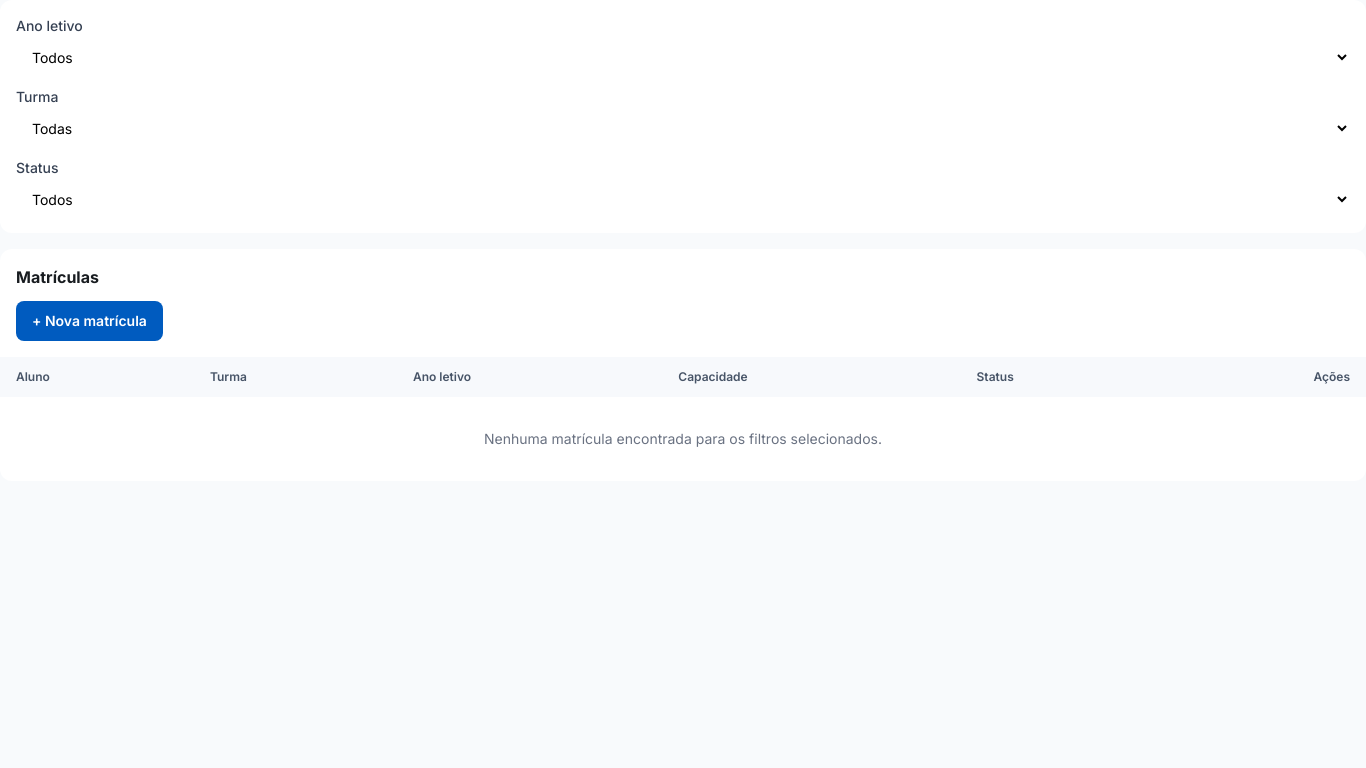
Scenario: EnrollmentsTab - vínculo de responsável após matrícula › cria a matrícula sem inserir dados de responsável
The width and height of the screenshot is (1366, 768).
Click the button "+ Nova matrícula": (89,321) [16, 301, 163, 341]
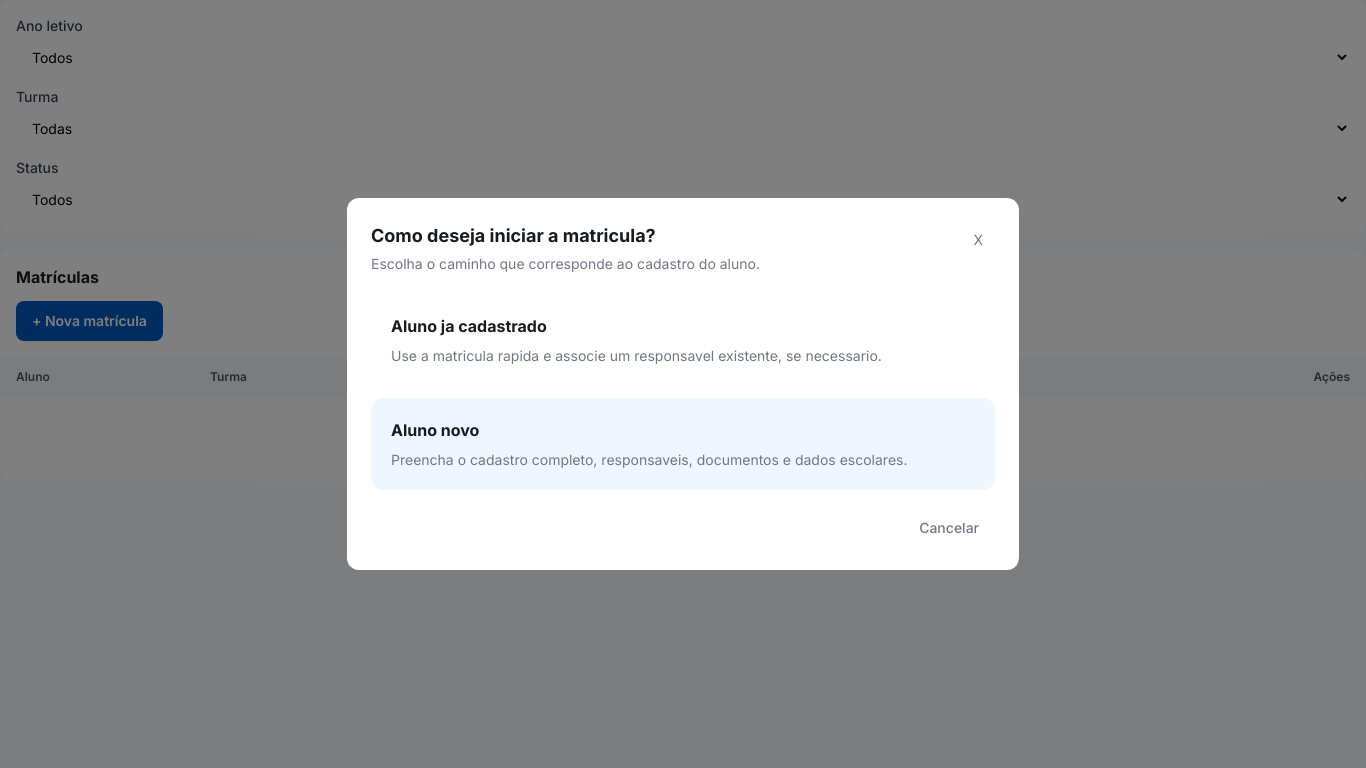
Click the button "Aluno ja cadastrado": (469,326) [371, 294, 995, 386]
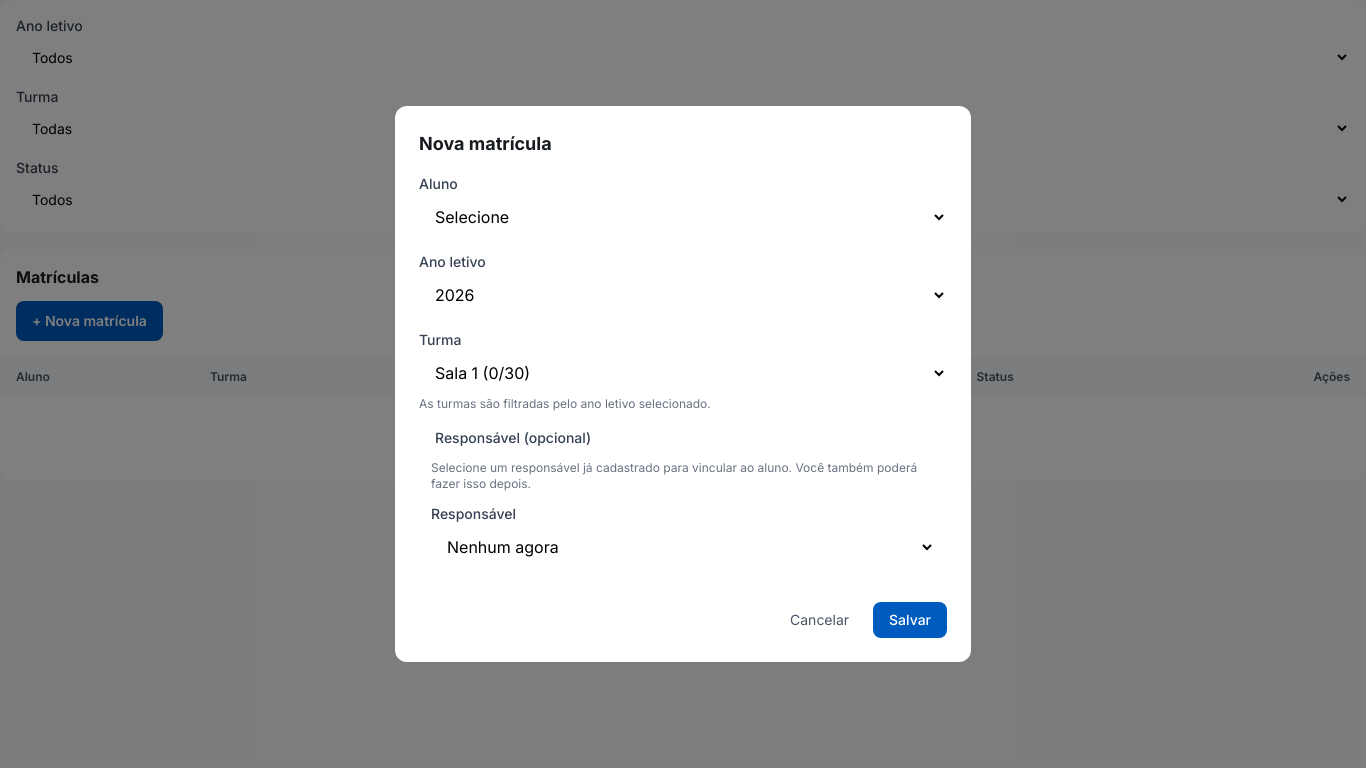
Select "Ieti (20260001)" in the dropdown labelled "Aluno": (683,217) [419, 198, 947, 236]
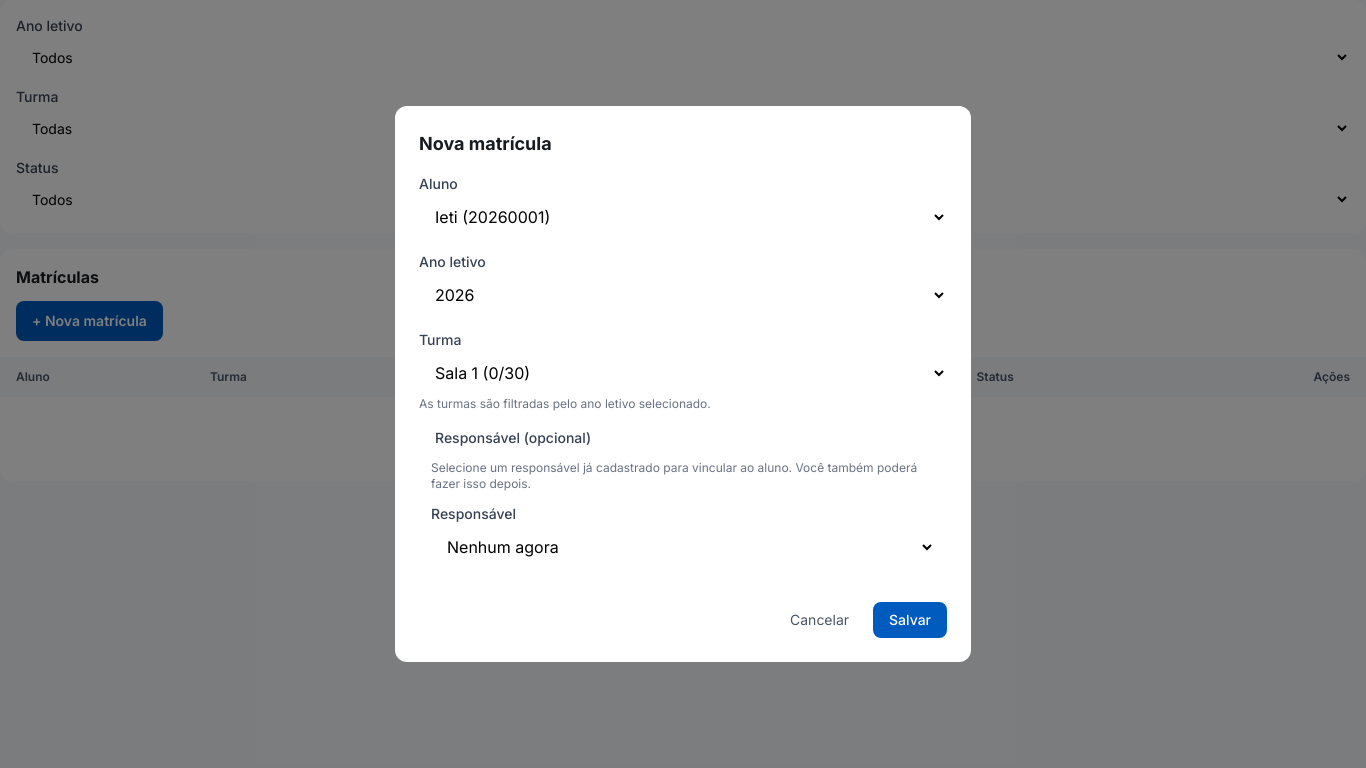
Select "2026" in the dropdown with id "enrollment-year": (683,295) [419, 276, 947, 314]
Select "Sala 1 (0/30)" in the dropdown with id "enrollment-class": (683,373) [419, 354, 947, 392]
Click the button "Salvar": (910,620) [873, 602, 947, 638]
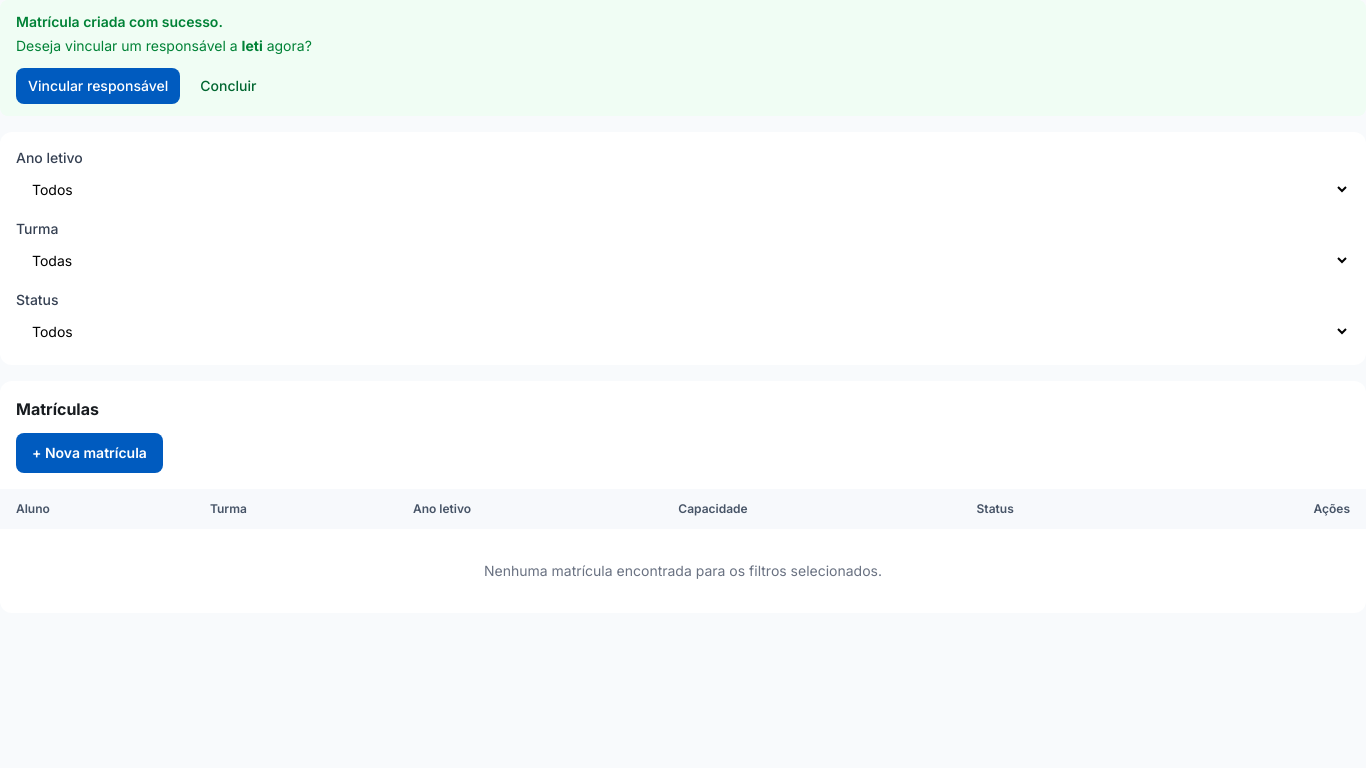
Expected: the text "Matrícula criada com sucesso." is shown, [16, 13, 223, 30]
Expected: the button "Vincular responsável" is shown, [16, 68, 180, 104]
